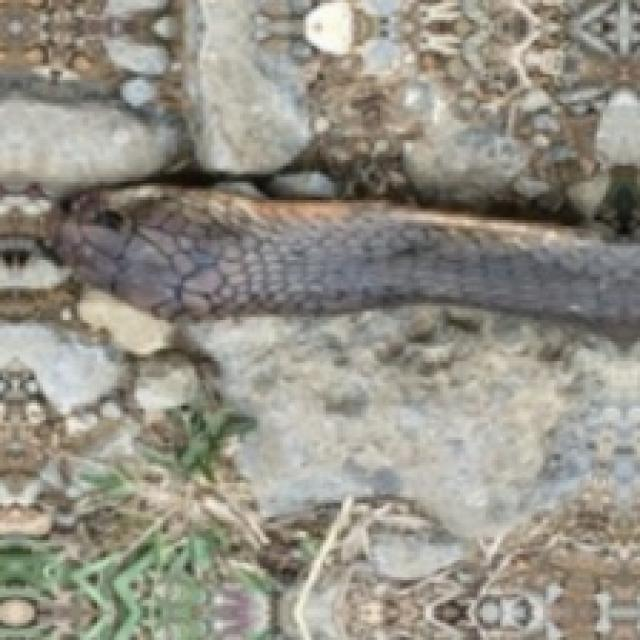king cobra: (0, 0, 637, 323), (54, 186, 637, 329)
